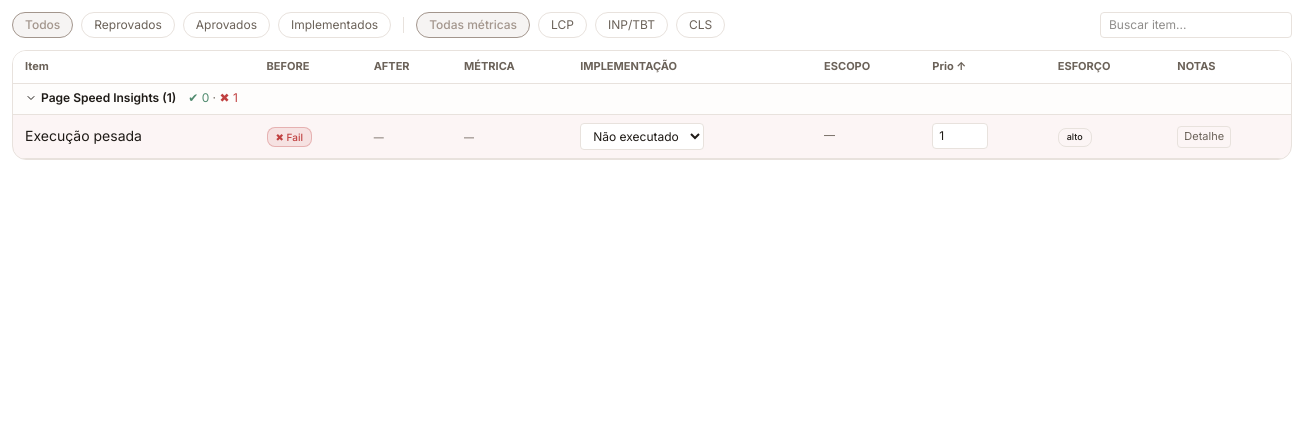
Test case: ChecklistGrid › abrir Detalhe busca a ficha da KB e mostra o como corrigir
Click the button with aria-label "detalhe de Execução pesada".
click(1204, 137)  # box [1177,126,1231,148]
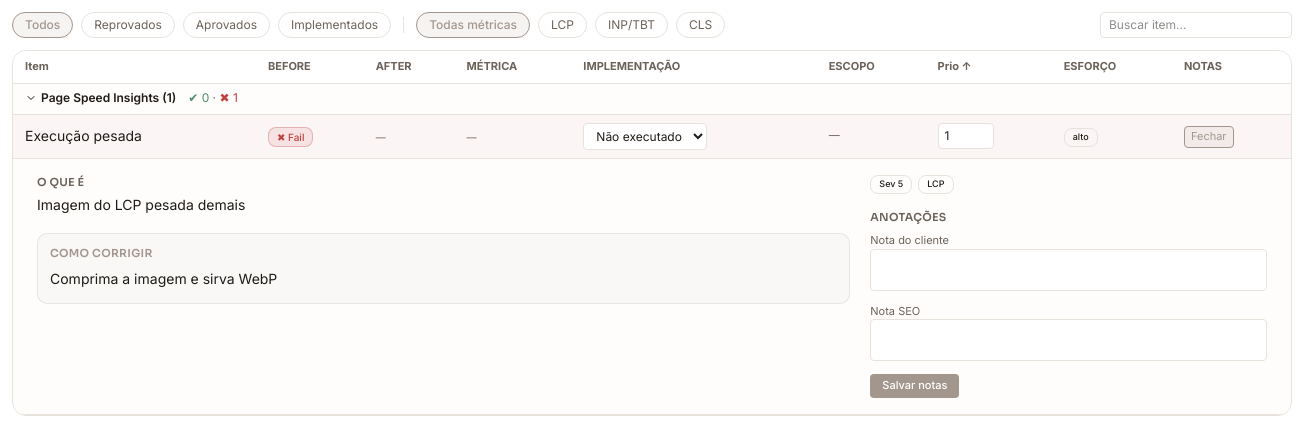
Expected: the text "Comprima a imagem e sirva WebP" is shown, [50,270,277,287]
Expected: the text "Imagem do LCP pesada demais" is shown, [37,196,245,213]
